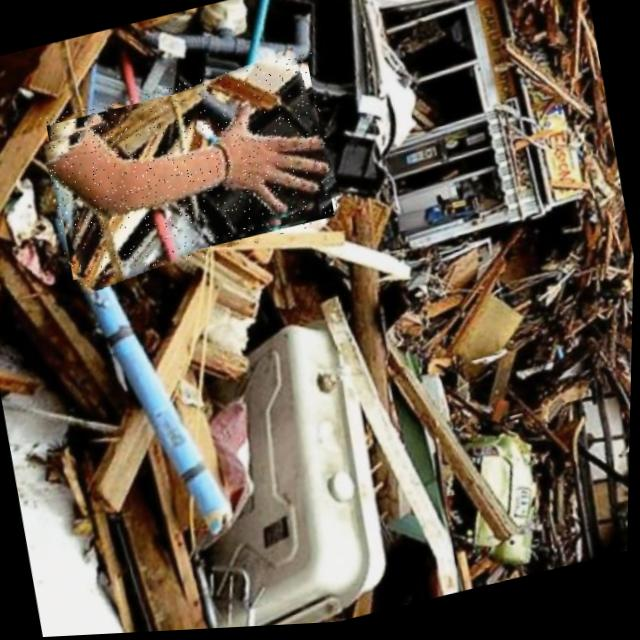Person in Rubble: (36, 54, 344, 292)
